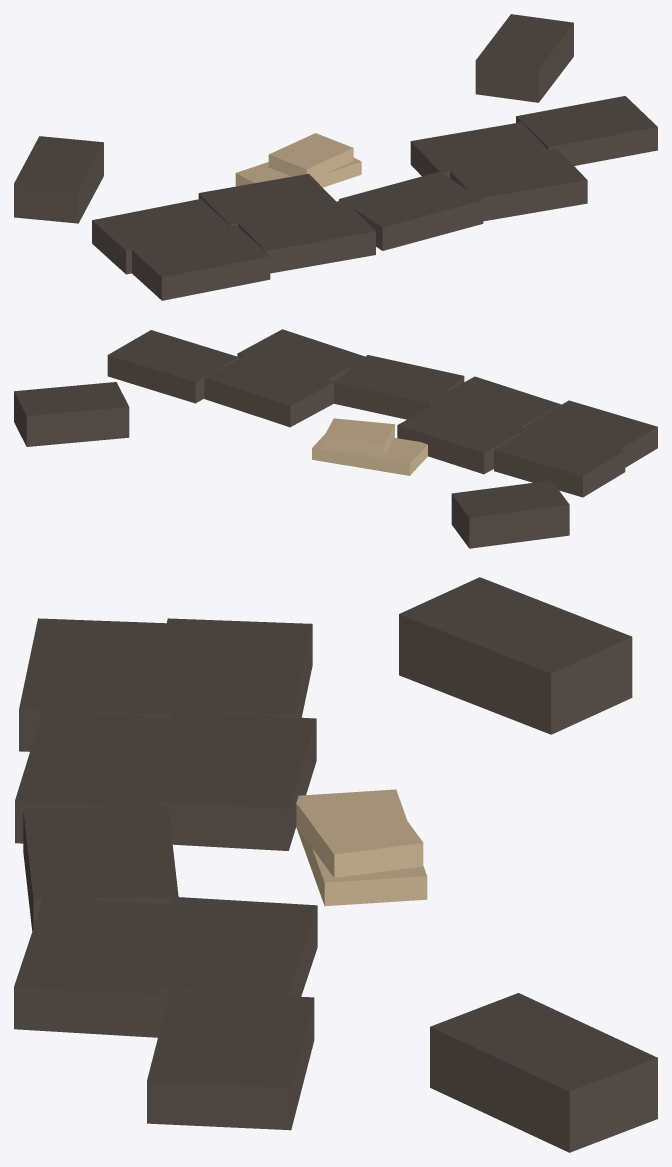
Rendered from SM_PretilTramo_v2_Irregular_e3_Brecha_LOD1.fbx.
3 renders of one model, top to bottom at view 1: azimuth 30°, elevation 25°; view 2: azimuth 150°, elevation 25°; view 3: azimuth 270°, elevation 25°, orthographic. The views are drawn at different scales.
Parts seen in each view (by area): view 1: SM_pretil_azotea_v11_LOD1; view 2: SM_pretil_azotea_v11_LOD1; view 3: SM_pretil_azotea_v11_LOD1.
Part boxes in pixels (x1,y1,x2,y2): SM_pretil_azotea_v11_LOD1: (14, 14, 657, 300); SM_pretil_azotea_v11_LOD1: (14, 329, 657, 548); SM_pretil_azotea_v11_LOD1: (14, 577, 657, 1152).
Bounding box in the file's own units: 4.69 × 0.26 × 2.48.
